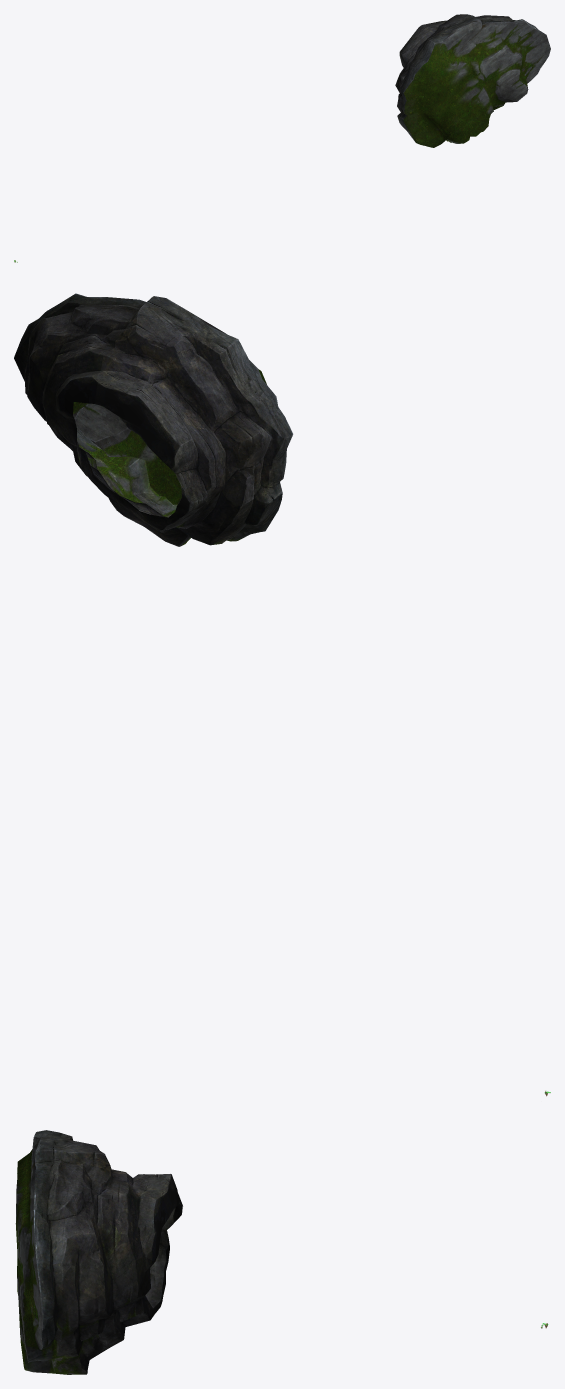
File: cave.fbx
3 renders of one model, top to bottom at view 1: azimuth 30°, elevation 25°; view 2: azimuth 150°, elevation 25°; view 3: azimuth 270°, elevation 25°, orthographic. The views are drawn at different scales.
Parts seen in each view (by area): view 1: Object_3, Object_2; view 2: Object_2, Object_3; view 3: Object_2, Object_3.
Part boxes in pixels (left/top/right/bottom): Object_3: left=403, top=20, right=550, bottom=147; Object_2: left=395, top=14, right=544, bottom=147; Object_2: left=14, top=293, right=293, bottom=546; Object_3: left=73, top=296, right=266, bottom=504; Object_2: left=24, top=1130, right=182, bottom=1374; Object_3: left=15, top=1137, right=43, bottom=1369.
Bounding box in the file's own units: 889612 × 531661 × 499007.
